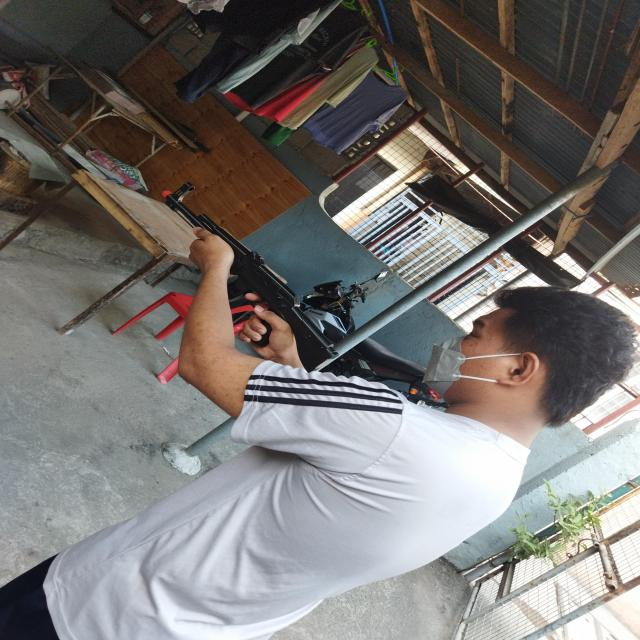rifle: (160, 184, 338, 374)
